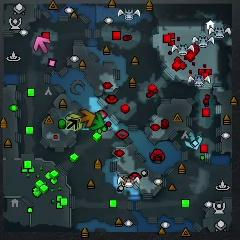x1: (34, 34, 51, 55)
x2: (66, 111, 83, 134)
x3: (185, 132, 203, 150)
x4: (87, 112, 107, 131)
x5: (80, 109, 95, 127)
